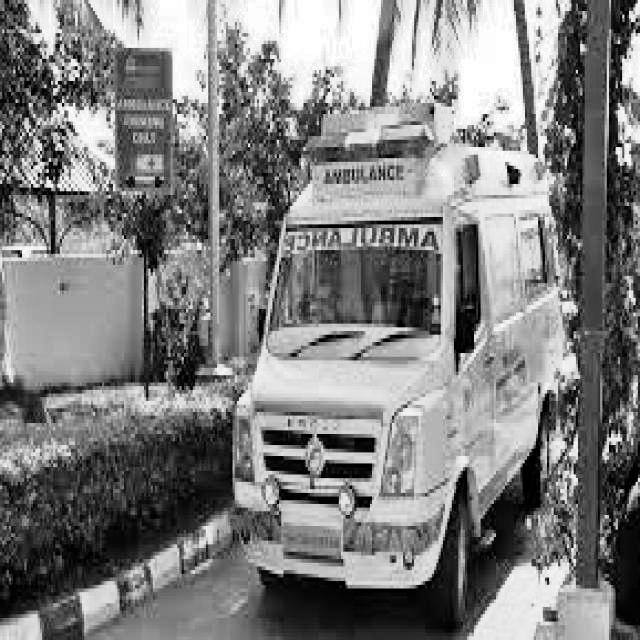LCV: (230, 102, 455, 596)
